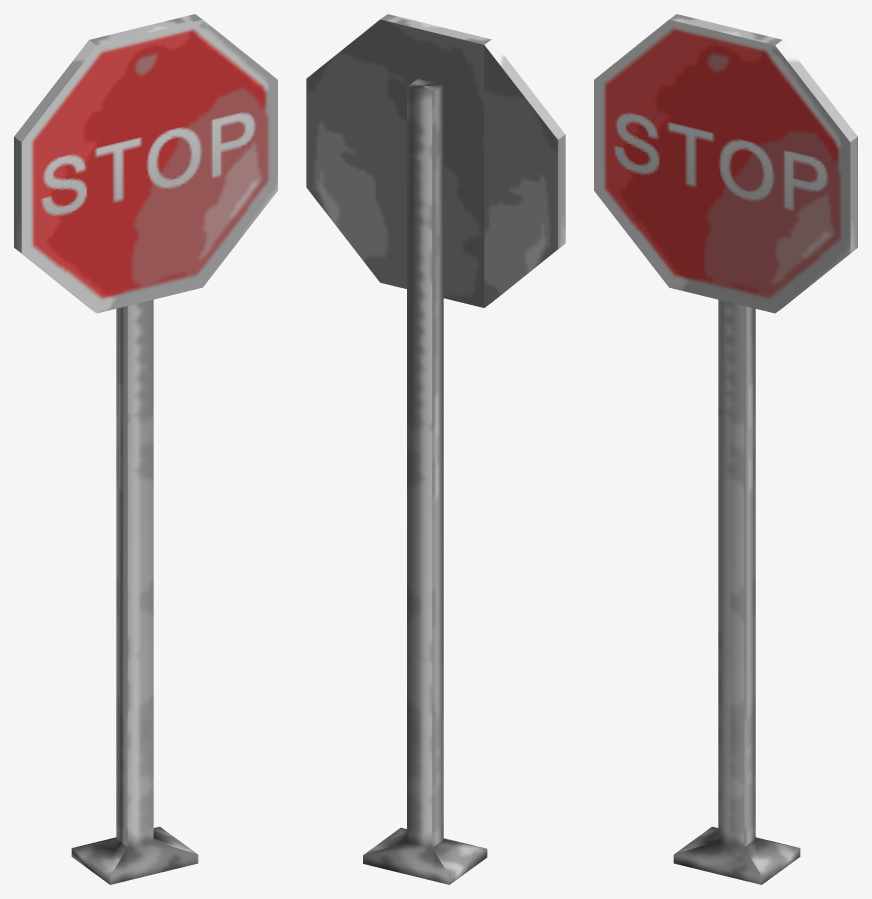
Rendered from StopSign.fbx.
3 views of the same model, side by side, from view 1: azimuth 30°, elevation 25°; view 2: azimuth 150°, elevation 25°; view 3: azimuth 330°, elevation 25° (orthographic).
Visible parts, largest first — view 1: polySurface34; view 2: polySurface34; view 3: polySurface34.
Part boxes in pixels (x1,y1,x2,y2): polySurface34: (14, 14, 277, 884); polySurface34: (306, 14, 565, 884); polySurface34: (594, 14, 857, 884).
Bounding box in the file's own units: 48.28 × 151 × 12.56.
